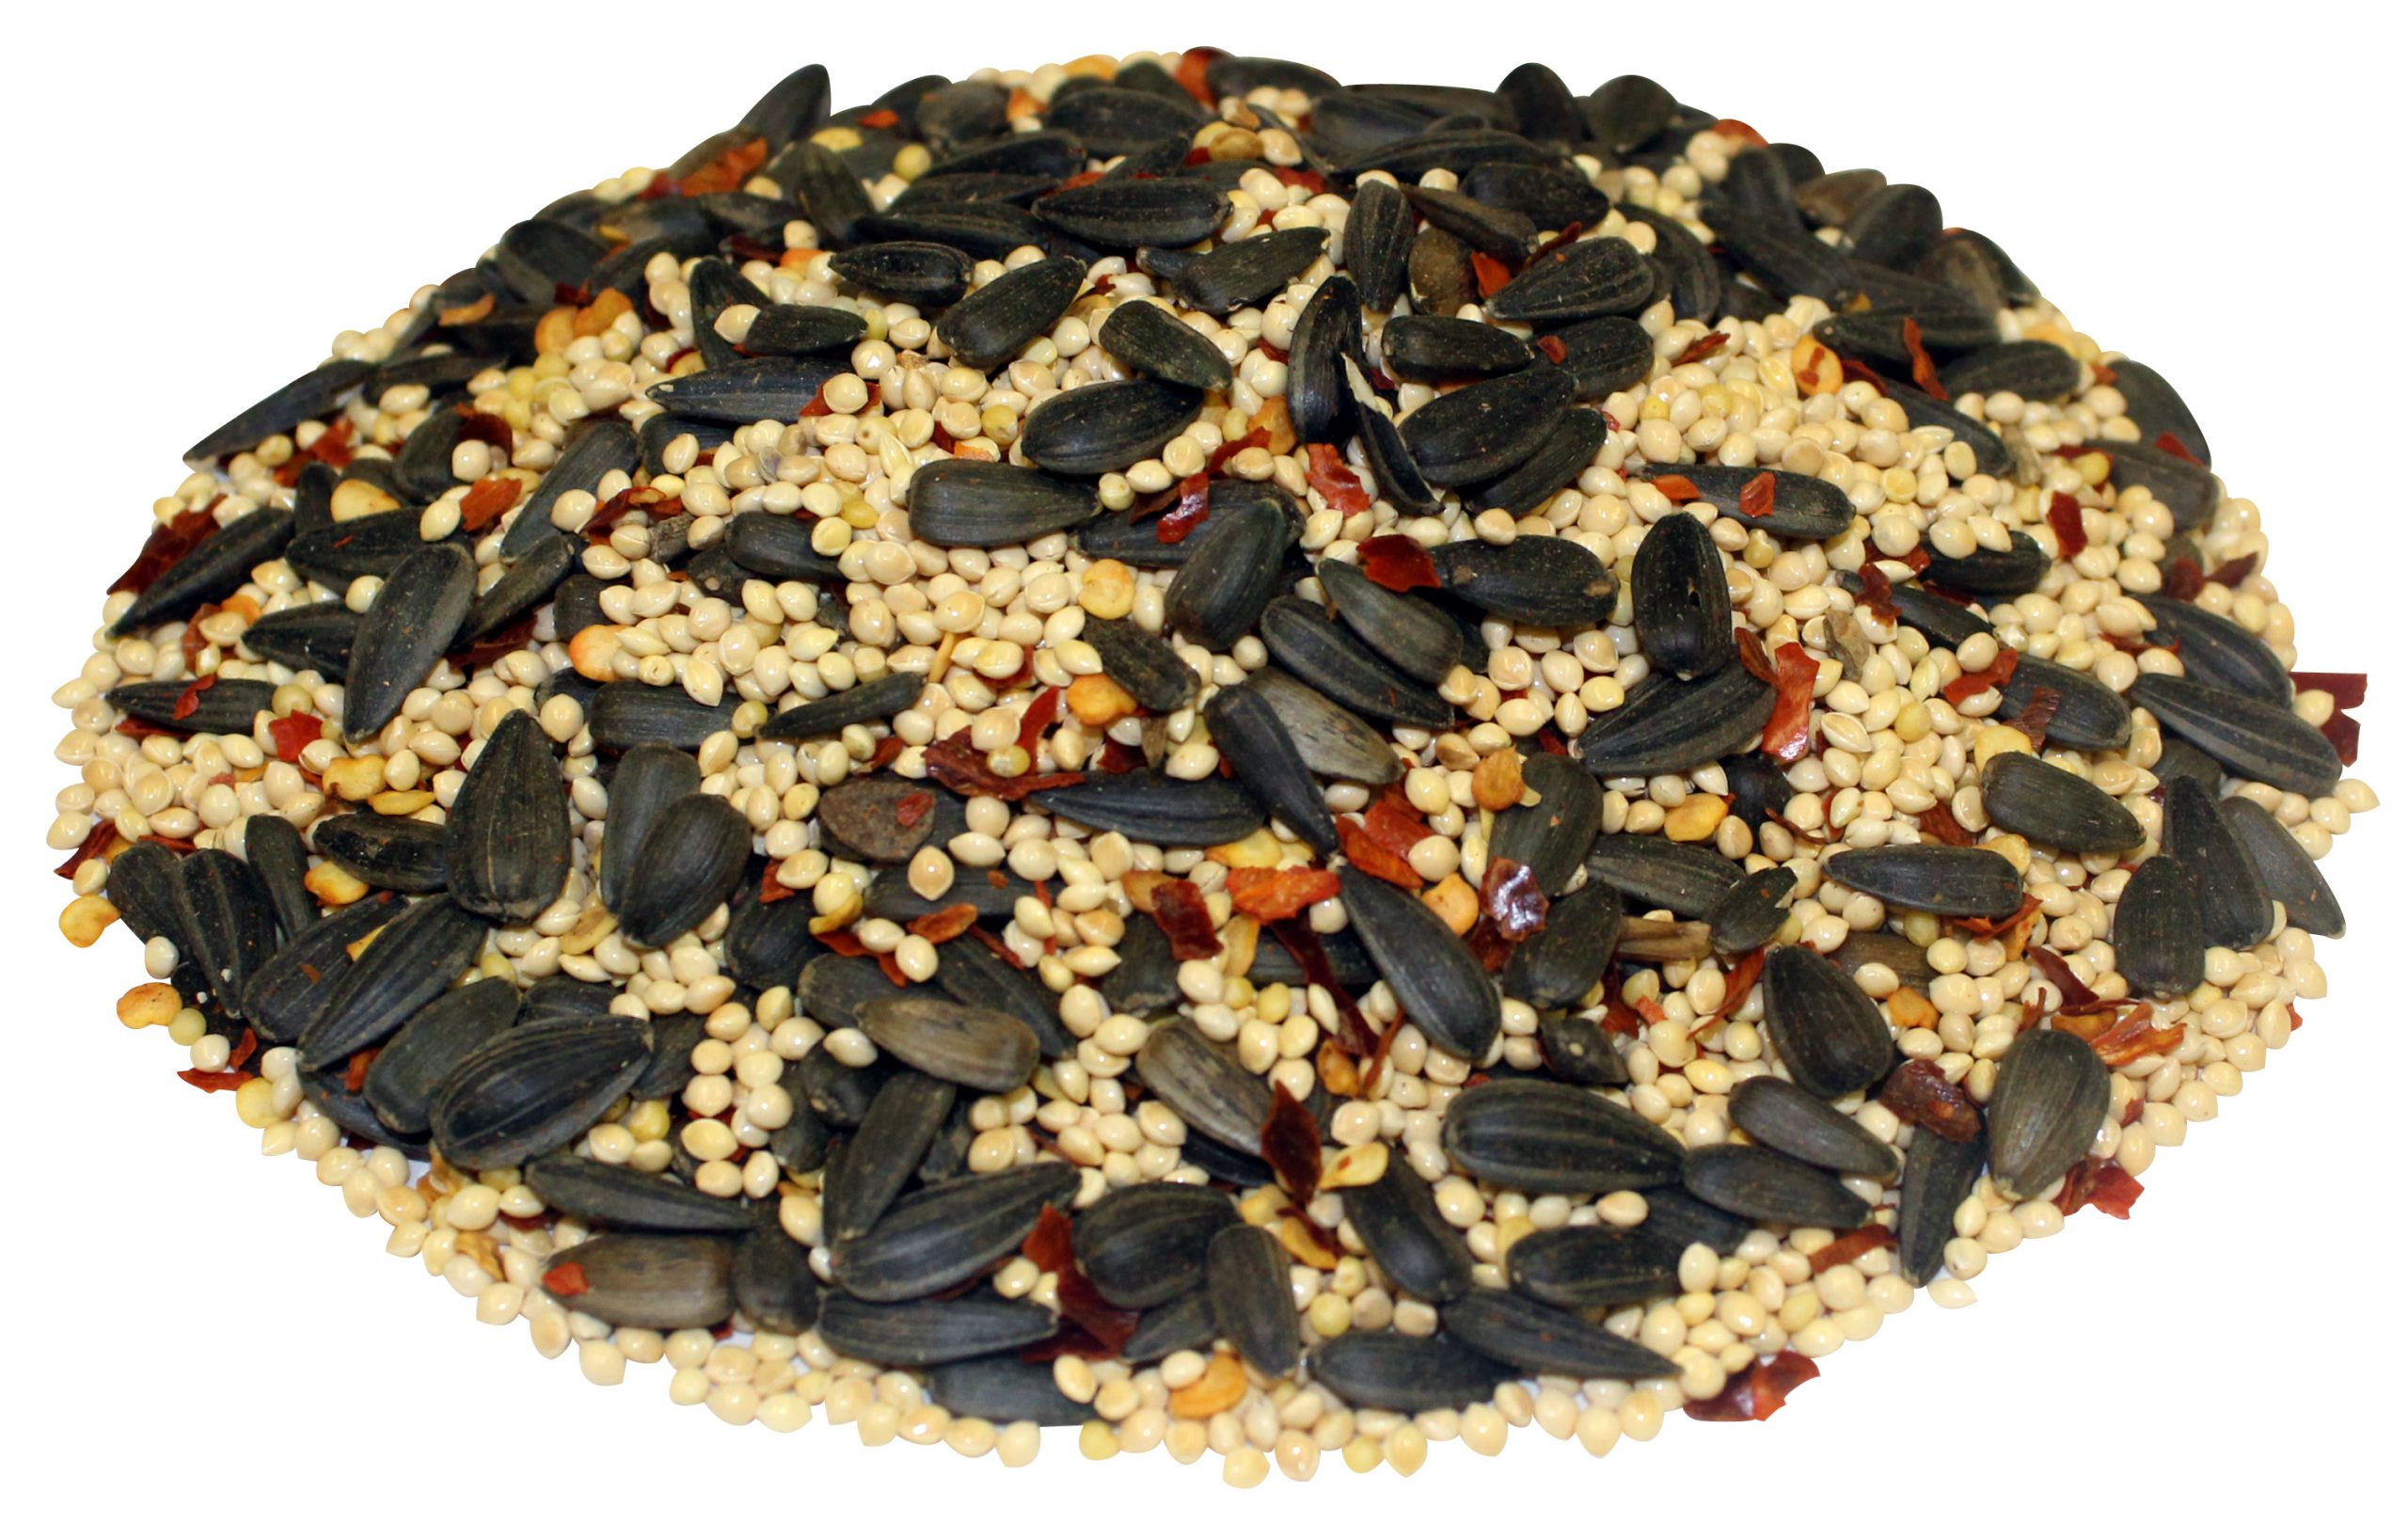seed: (26, 35, 2408, 1499)
